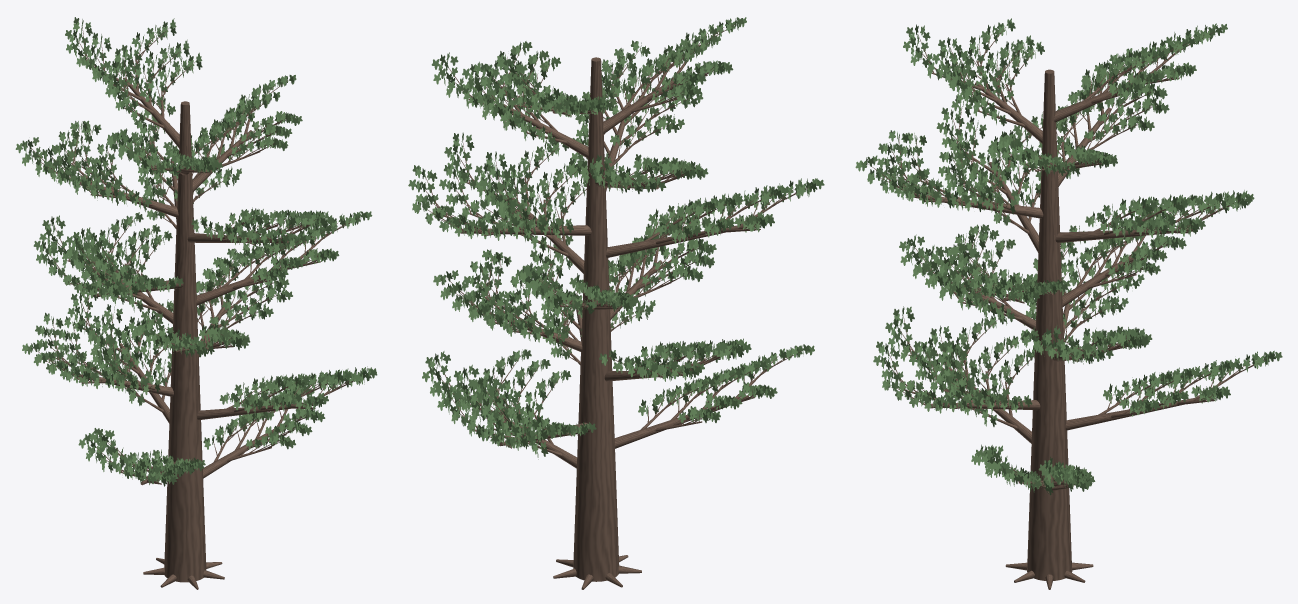
File: tree_maple_hero01.glb
The picture shows the model from 3 angles, left to right: view 1: azimuth 30°, elevation 25°; view 2: azimuth 150°, elevation 25°; view 3: azimuth 270°, elevation 25°; orthographic projection. The views are drawn at different scales.
Visible parts, largest first — view 1: foliage, trunk, twigs, primary_branches, secondary_branches, roots; view 2: foliage, trunk, twigs, primary_branches, secondary_branches, roots; view 3: foliage, trunk, twigs, primary_branches, secondary_branches, roots.
Boxes of the visible parts, x1=… form: foliage: x1=15, y1=17, x2=377, y2=486; trunk: x1=164, y1=101, x2=206, y2=582; twigs: x1=29, y1=27, x2=364, y2=483; primary_branches: x1=80, y1=77, x2=315, y2=485; secondary_branches: x1=56, y1=56, x2=342, y2=484; roots: x1=143, y1=558, x2=224, y2=589; foliage: x1=408, y1=17, x2=824, y2=459; trunk: x1=573, y1=57, x2=619, y2=581; twigs: x1=425, y1=24, x2=810, y2=451; primary_branches: x1=460, y1=79, x2=748, y2=468; secondary_branches: x1=444, y1=60, x2=781, y2=456; roots: x1=553, y1=555, x2=641, y2=589; foliage: x1=855, y1=18, x2=1282, y2=495; trunk: x1=1027, y1=69, x2=1072, y2=580; twigs: x1=867, y1=27, x2=1268, y2=487; primary_branches: x1=914, y1=82, x2=1212, y2=493; secondary_branches: x1=904, y1=50, x2=1239, y2=490; roots: x1=1005, y1=562, x2=1093, y2=589.
Size of the model in its own units: 7.64 by 11.3 by 8.18.
2 materials, 2 textured.
